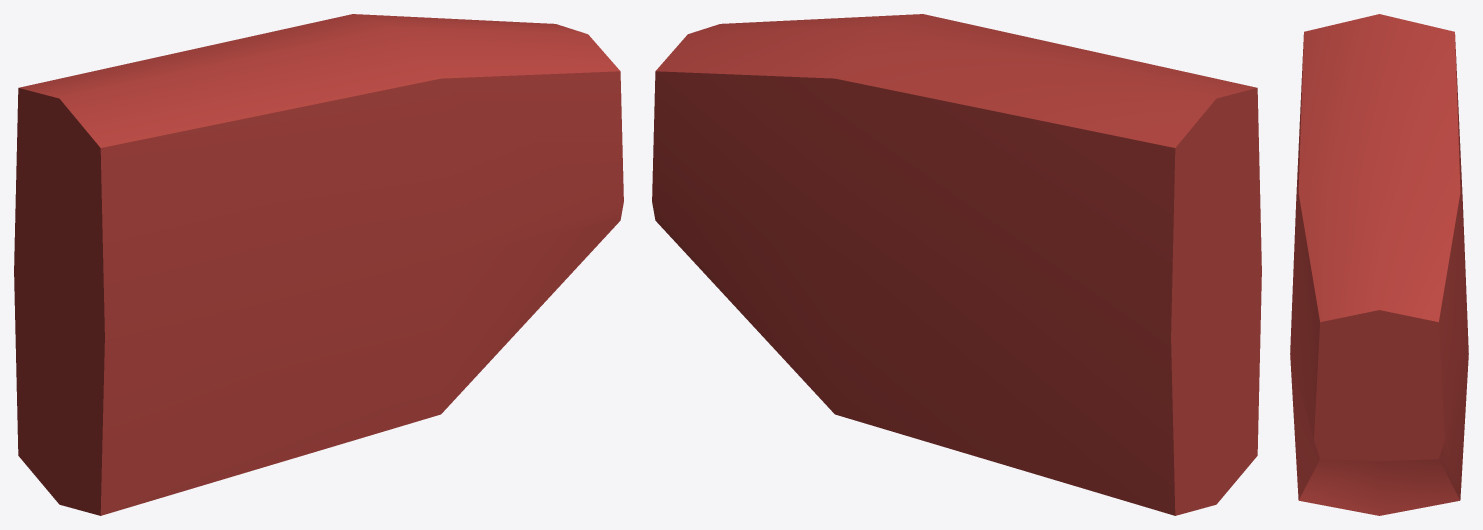
File: sport_case_lod2.glb
The picture shows the model from 3 angles, left to right: view 1: azimuth 30°, elevation 25°; view 2: azimuth 150°, elevation 25°; view 3: azimuth 270°, elevation 25°; orthographic projection. The views are drawn at different scales.
Visible parts, largest first — view 1: sport_case_lod2; view 2: sport_case_lod2; view 3: sport_case_lod2.
Boxes of the visible parts, x1=… form: sport_case_lod2: x1=14, y1=14, x2=623, y2=515; sport_case_lod2: x1=652, y1=14, x2=1261, y2=515; sport_case_lod2: x1=1290, y1=14, x2=1468, y2=515.
Bounding box in the file's own units: 0.47 × 0.345 × 0.15.
